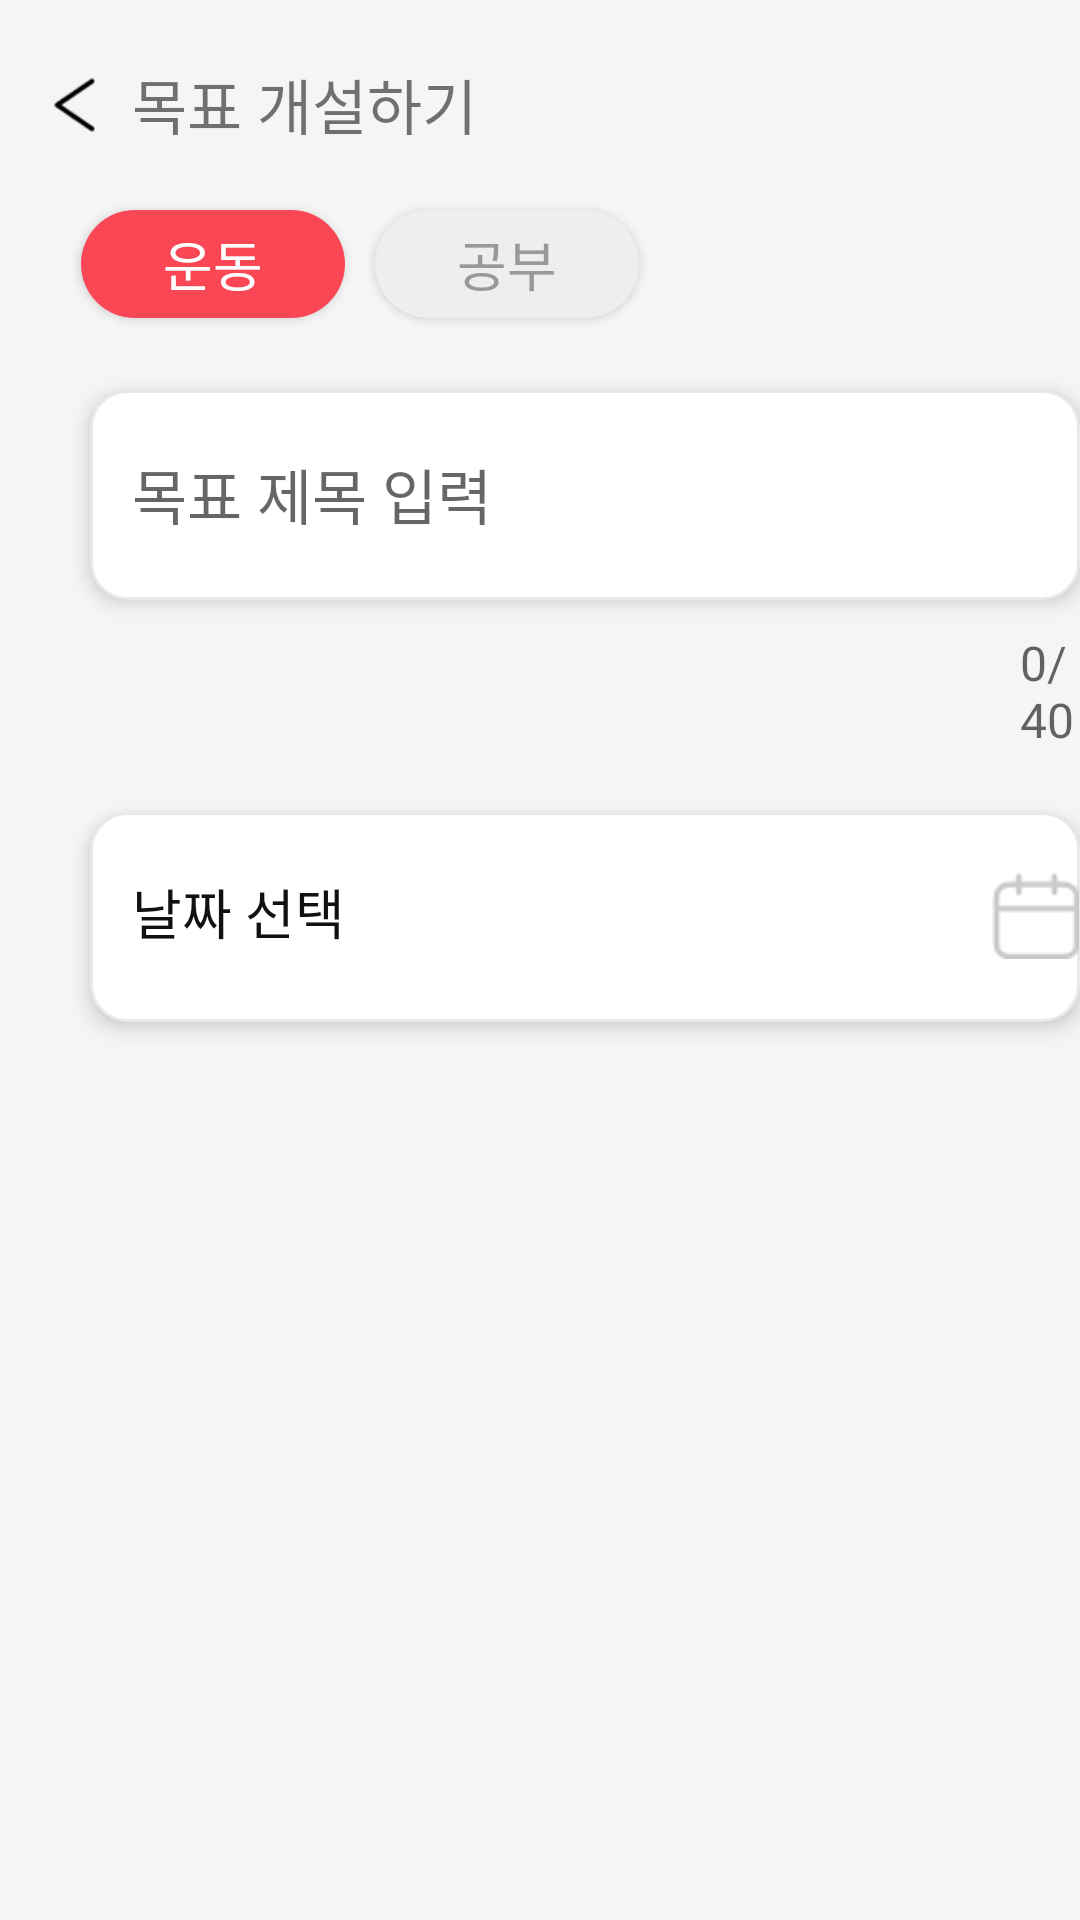

Icons on this 1080×1920 Android screen, each with the point to tap as (x=x, y=y):
뒤로 가기 버튼: (x=74, y=105)
새로운 날짜 추가 버튼: (x=1036, y=916)
